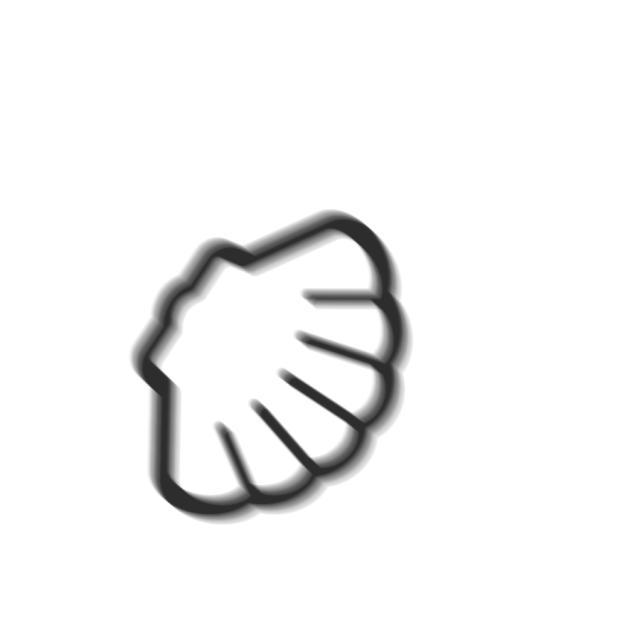shell: (124, 204, 417, 529)
